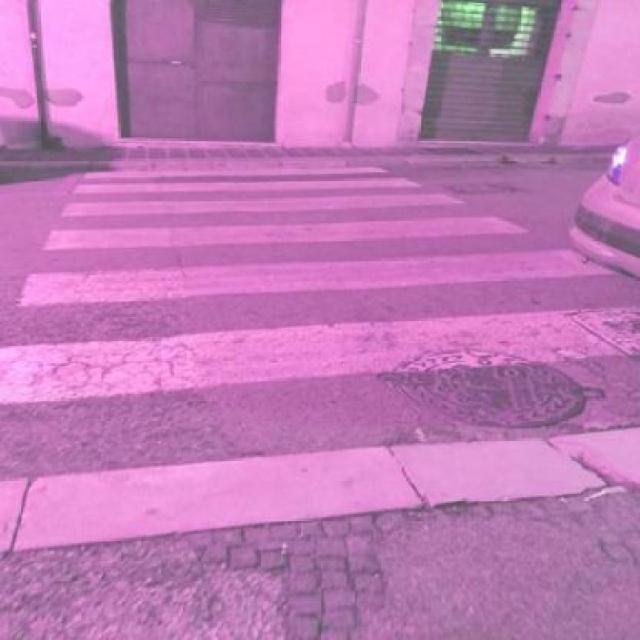crosswalk: (0, 164, 640, 553)
